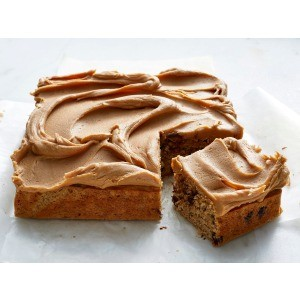peanut butter_brain food: (52, 93, 262, 227)
